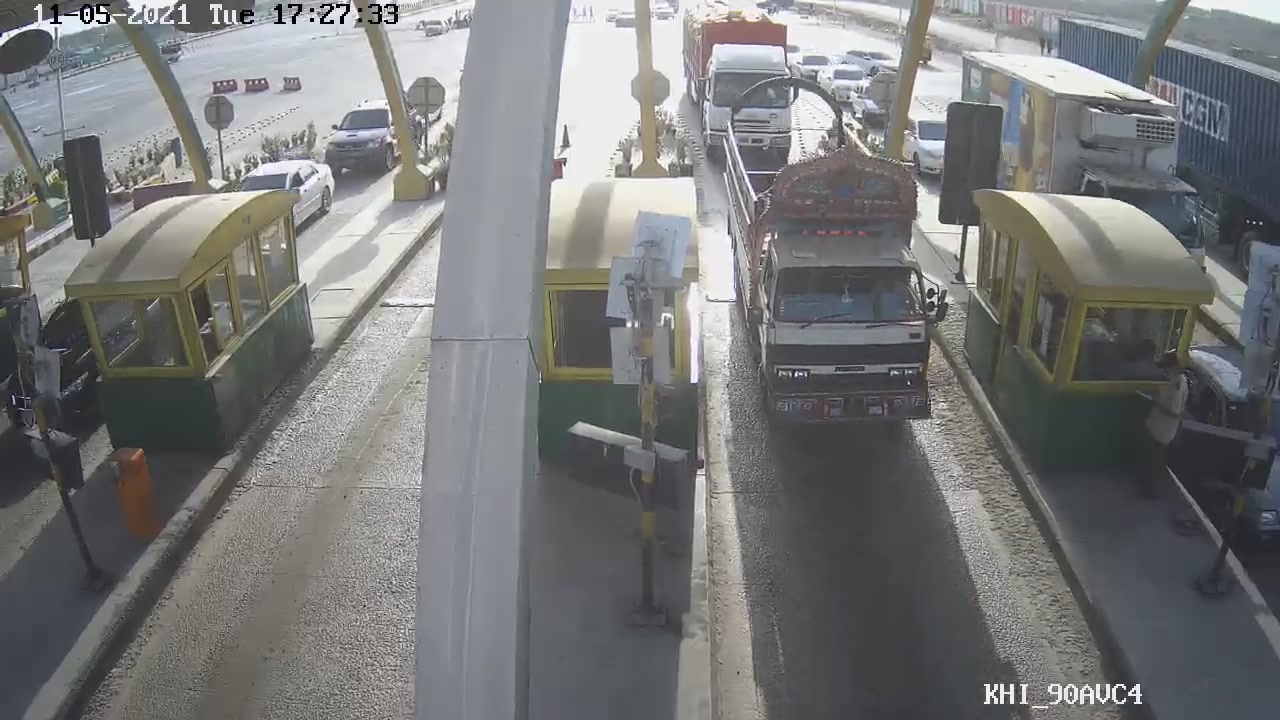F5: (716, 78, 930, 434)
